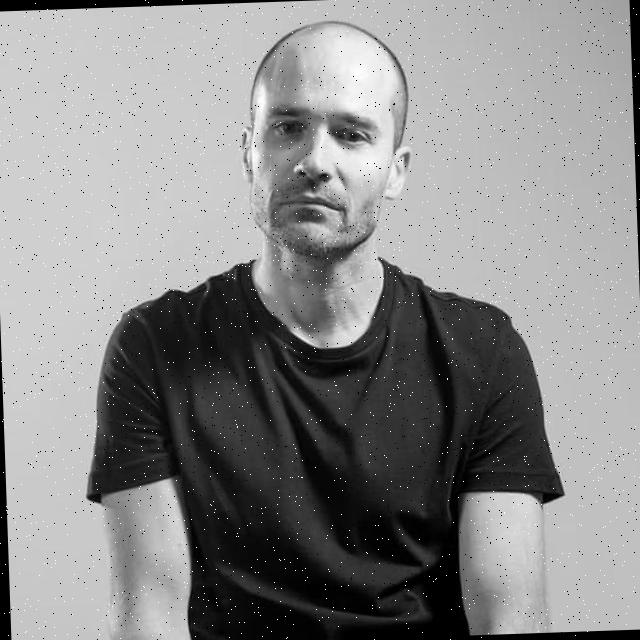Sadness: (255, 56, 394, 260)
